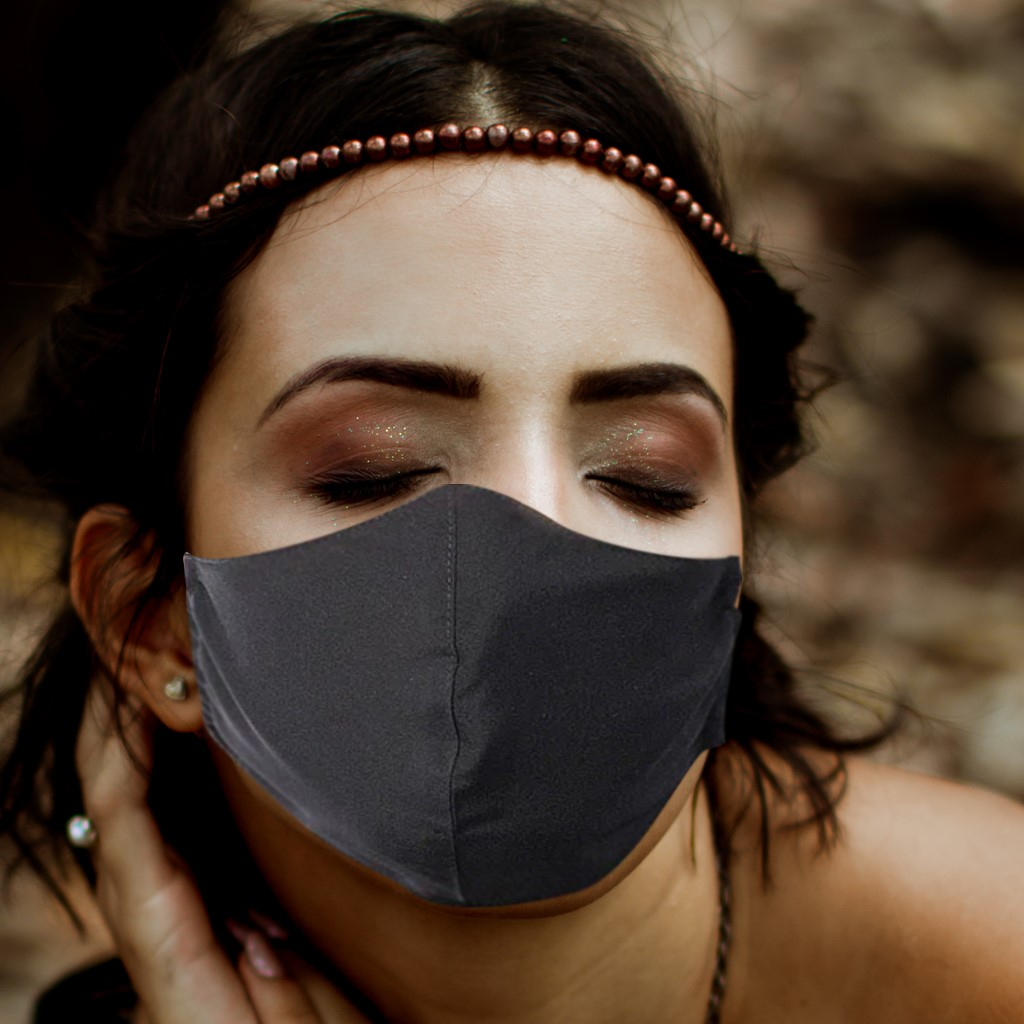con_mascara: (162, 112, 755, 900)
